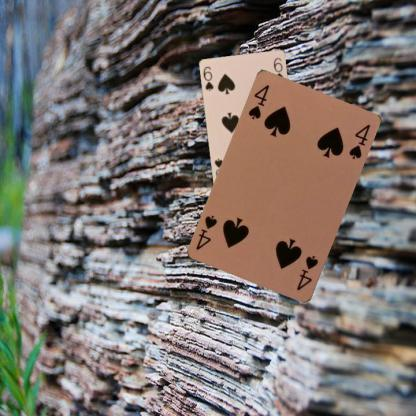4s: (294, 253, 320, 292), (246, 82, 271, 122)
6s: (201, 64, 215, 93)
